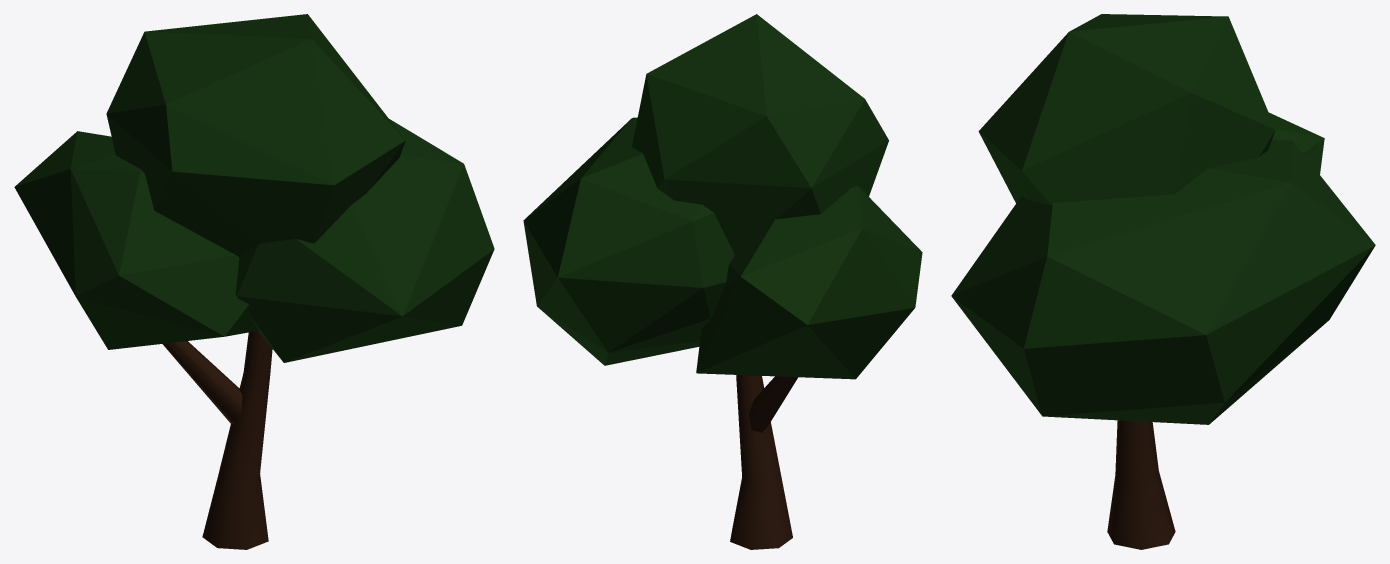
The model's file is lib-tree-oak-med.fbx.
3 renders of one model, left to right at view 1: azimuth 30°, elevation 25°; view 2: azimuth 150°, elevation 25°; view 3: azimuth 270°, elevation 25°, orthographic. The views are drawn at different scales.
Parts seen in each view (by area): view 1: pCylinder22; view 2: pCylinder22; view 3: pCylinder22.
Part boxes in pixels (<box>): pCylinder22: <box>14,14,494,549</box>; pCylinder22: <box>523,14,922,549</box>; pCylinder22: <box>951,14,1375,549</box>.
Size of the model in its own units: 8.95 by 11.58 by 8.52.
